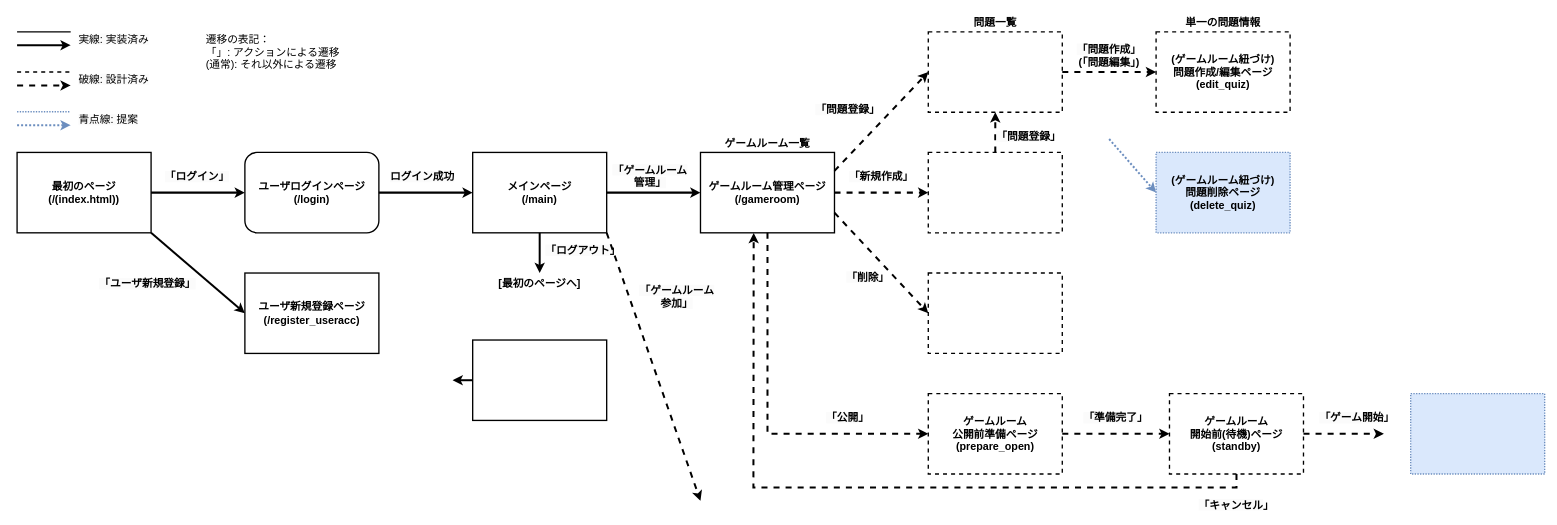
The diagram is 1557 pixels wide and 525 high, and some of its shapes have lost their labels. The centre of each missing label's shape, as x and y in pixels:
"aaa" belongs at point 1477,433.
"ゲームルーム 削除(確認)ページ (delete)" belongs at point 995,313.
"ゲームルーム 問題登録ページ (register_quiz)" belongs at point 995,72.
"ゲームルーム 新規作成ページ (create)" belongs at point 995,192.
"ログアウトページ (/logout)" belongs at point 539,380.
